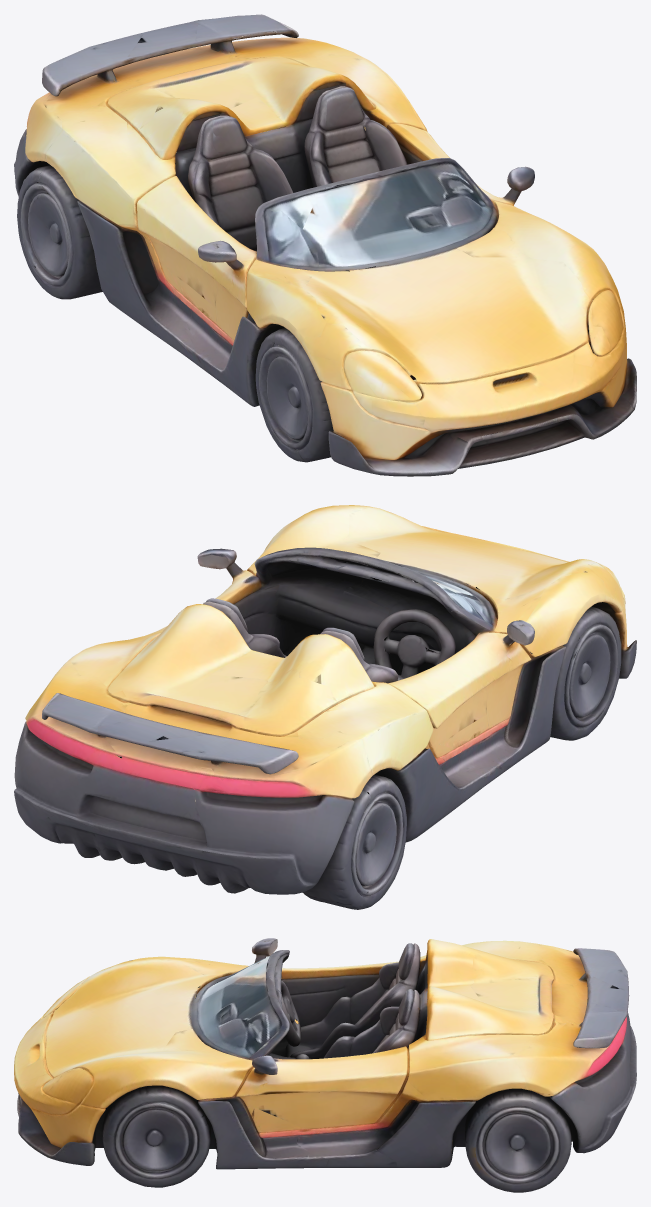
File: bolt.glb
3 renders of one model, top to bottom at view 1: azimuth 30°, elevation 25°; view 2: azimuth 150°, elevation 25°; view 3: azimuth 270°, elevation 25°, orthographic. The views are drawn at different scales.
Visible parts, largest first — view 1: model; view 2: model; view 3: model.
Part boxes in pixels (left/top/right/bottom): model: left=14, top=14, right=636, bottom=476; model: left=14, top=505, right=636, bottom=909; model: left=14, top=938, right=636, bottom=1192.
Size of the model in its own units: 0.9352 by 0.5532 by 1.89.
1 material, 1 textured.
